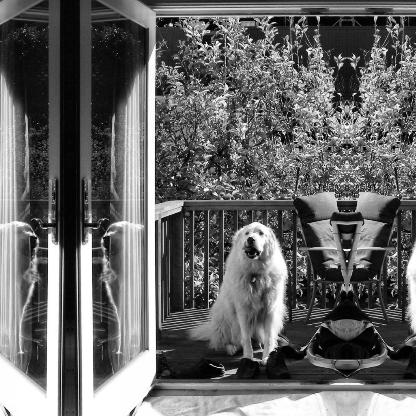Dog: (186, 222, 286, 368)
